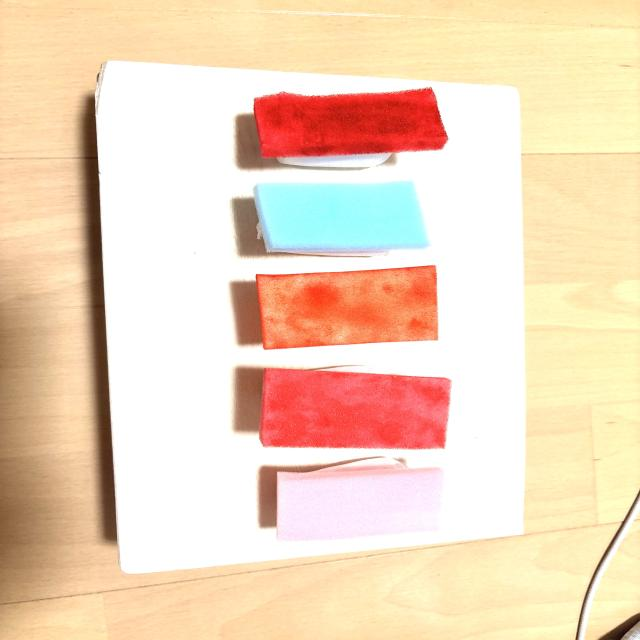ika: (254, 181, 429, 254)
maguro: (259, 366, 451, 449), (254, 88, 448, 167)
salmon: (257, 266, 438, 349)
tai: (277, 458, 443, 541)
